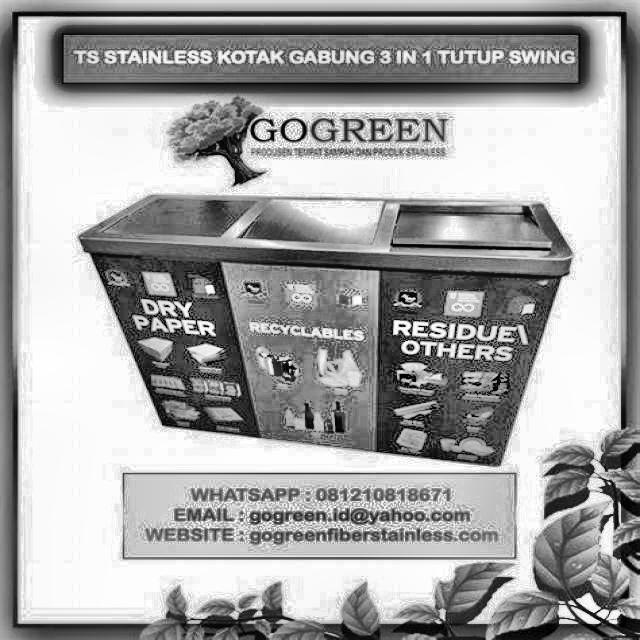Dustbin: (64, 178, 590, 469)
